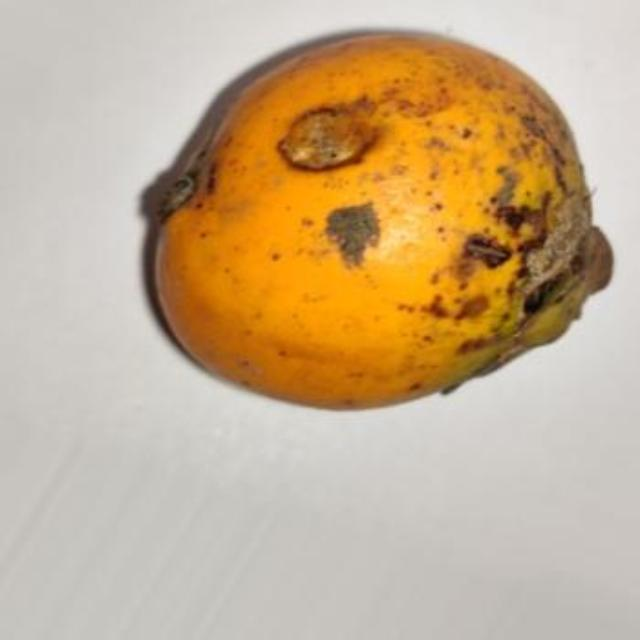good: (144, 29, 614, 413)
